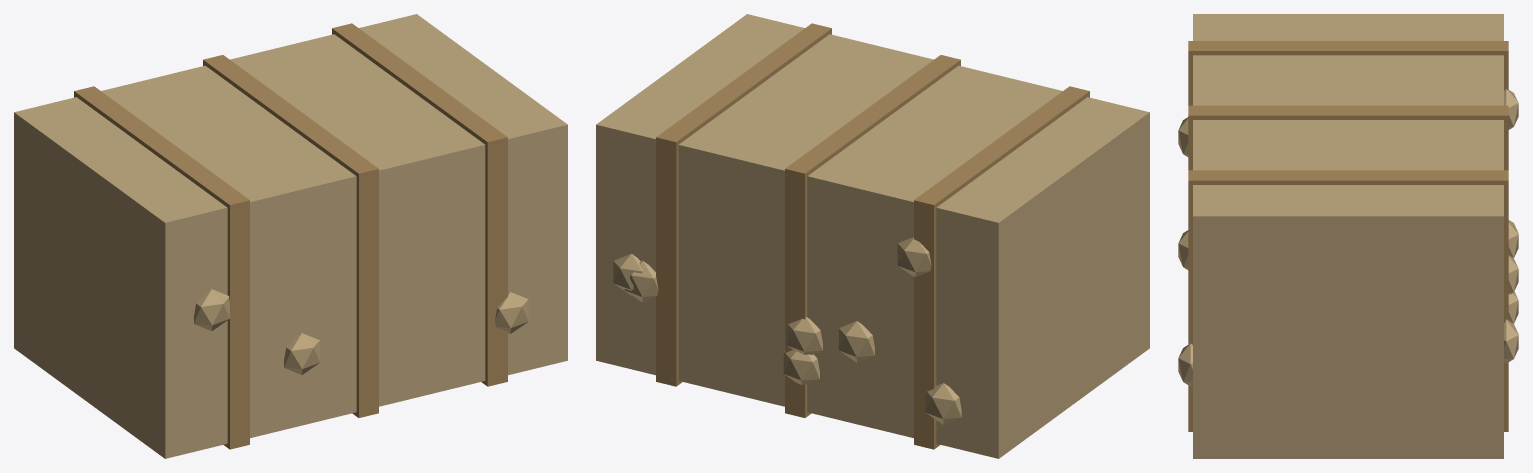
Rendered from decorativos-fardo.glb.
3 views of the same model, side by side, from view 1: azimuth 30°, elevation 25°; view 2: azimuth 150°, elevation 25°; view 3: azimuth 270°, elevation 25° (orthographic). The views are drawn at different scales.
Parts seen in each view (by area): view 1: fardo_Fardo, fardo_Soga; view 2: fardo_Fardo, fardo_Soga; view 3: fardo_Fardo, fardo_Soga.
Boxes of the visible parts, x1,y1,x2,y2 form: fardo_Fardo: [14, 14, 567, 458]; fardo_Soga: [74, 23, 507, 449]; fardo_Fardo: [596, 14, 1149, 458]; fardo_Soga: [656, 23, 1089, 449]; fardo_Fardo: [1178, 14, 1518, 458]; fardo_Soga: [1188, 41, 1508, 431].
Bounding box in the file's own units: 1 × 0.58 × 0.711.
